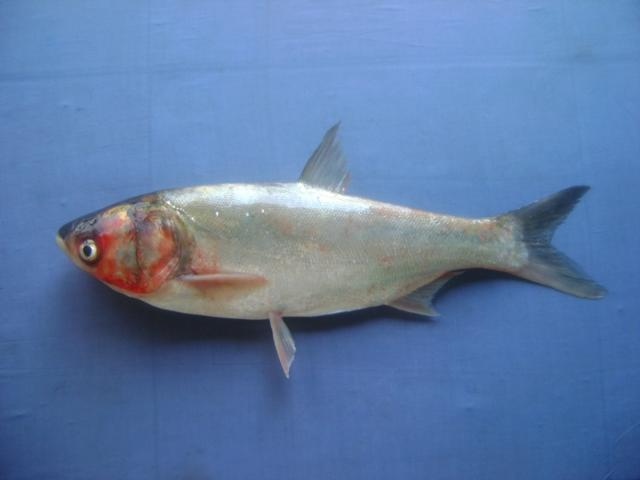Mulut: (44, 208, 88, 280)
Sirip Anal: (389, 262, 481, 330)
Sirip Dada: (172, 264, 272, 294)
Sirip Ekor: (501, 174, 615, 310)
Sirip Perut: (260, 305, 314, 385)
Sirip Punggung: (294, 114, 361, 200)
